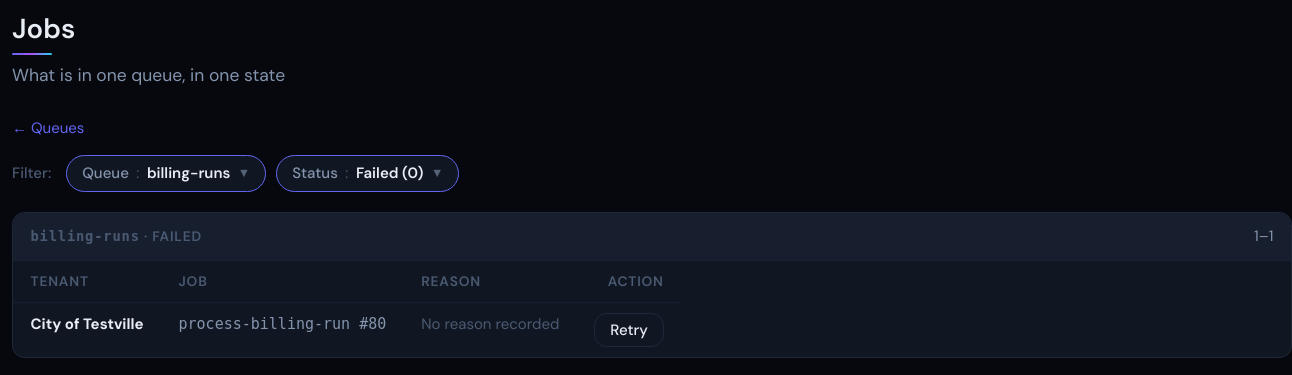
the cluster jobs page › offers Retry on a failed job, and records what came back
What coordinates should you click on to do the following:
click the button with aria-label "retry job "
I would click on:
 (629, 330)
Its box is [594,313,664,347].
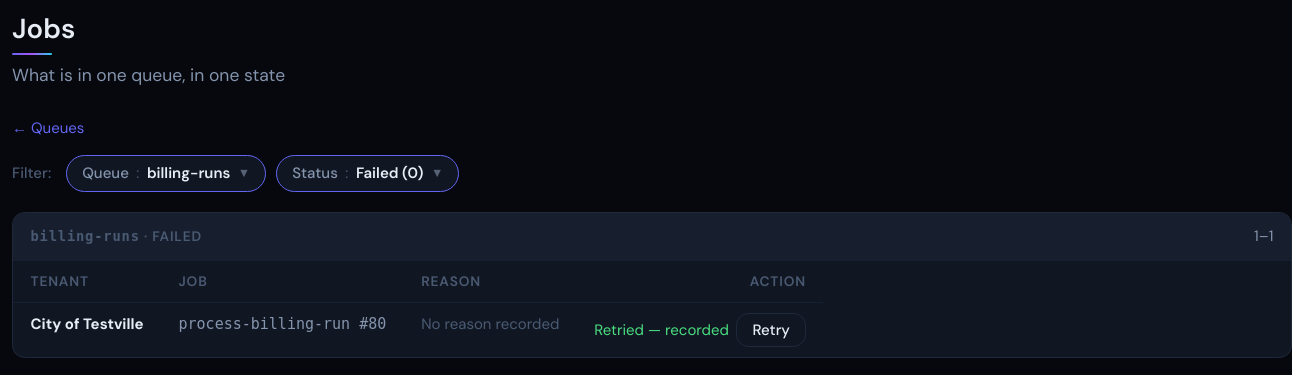
Expected: the text "Retried — recorded" is shown, [594,319,729,341]
